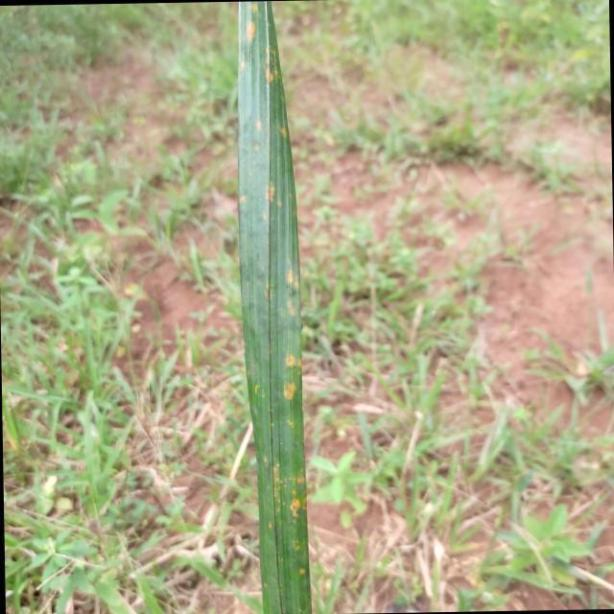Kalium: (235, 0, 313, 614)
